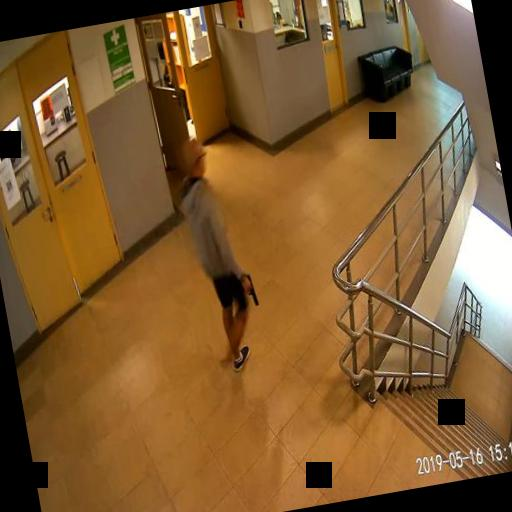Handgun: (238, 270, 256, 306)
